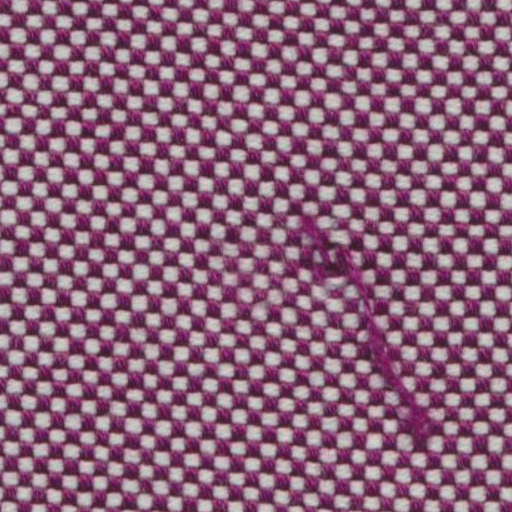DuanSha: (280, 187, 450, 459)
